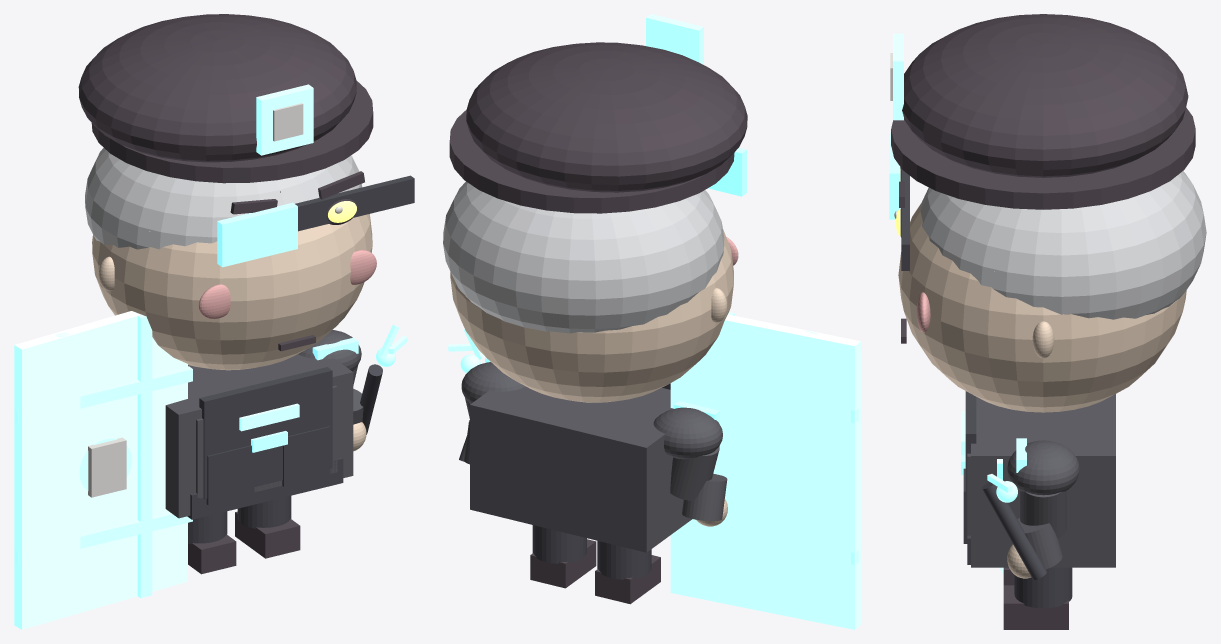
Rendered from sentinel.glb.
3 views of the same model, side by side, from view 1: azimuth 30°, elevation 25°; view 2: azimuth 150°, elevation 25°; view 3: azimuth 270°, elevation 25° (orthographic). The views are drawn at different scales.
Visible parts, largest first — view 1: EnergyShield, Beret, Head, HairCap, ChestPlate, Coat, BeretBand, ShieldFrame_R, Visor, VisorStrap, BeretEmblem, MagPouch_L (+17 smaller); view 2: EnergyShield, Beret, HairCap, Coat, Head, BeretBand, Pauldron_L, BeretEmblem, Leg_L, UpperArm_L, Leg_R, Shoe_R (+4 smaller); view 3: Beret, HairCap, Head, Coat, BeretBand, Pauldron_R, Leg_R, Shoe_R, Baton, UpperArm_R, Forearm_R, BeretEmblem (+6 smaller).
Boxes of the visible parts, left/top/right/bottom form: EnergyShield: left=14, top=311, right=187, bottom=629; Beret: left=78, top=14, right=356, bottom=162; Head: left=92, top=214, right=372, bottom=370; HairCap: left=85, top=148, right=362, bottom=249; ChestPlate: left=199, top=367, right=332, bottom=499; Coat: left=165, top=354, right=353, bottom=518; BeretBand: left=91, top=81, right=373, bottom=183; ShieldFrame_R: left=137, top=315, right=152, bottom=598; Visor: left=217, top=202, right=297, bottom=267; VisorStrap: left=295, top=175, right=414, bottom=231; BeretEmblem: left=256, top=84, right=313, bottom=155; MagPouch_L: left=206, top=445, right=254, bottom=505; EnergyShield: left=670, top=314, right=860, bottom=629; Beret: left=466, top=42, right=747, bottom=192; HairCap: left=443, top=181, right=724, bottom=333; Coat: left=470, top=386, right=692, bottom=552; Head: left=450, top=229, right=733, bottom=402; BeretBand: left=449, top=110, right=734, bottom=213; Pauldron_L: left=653, top=407, right=722, bottom=459; BeretEmblem: left=646, top=14, right=703, bottom=64; Leg_L: left=597, top=541, right=651, bottom=579; UpperArm_L: left=670, top=446, right=719, bottom=500; Leg_R: left=532, top=525, right=586, bottom=563; Shoe_R: left=530, top=539, right=596, bottom=588; Beret: left=902, top=14, right=1188, bottom=177; HairCap: left=920, top=171, right=1206, bottom=319; Head: left=898, top=201, right=1186, bottom=412; Coat: left=971, top=394, right=1115, bottom=567; BeretBand: left=891, top=107, right=1195, bottom=209; Pauldron_R: left=1007, top=440, right=1079, bottom=495; Leg_R: left=1014, top=567, right=1072, bottom=608; Shoe_R: left=1003, top=585, right=1068, bottom=629; Baton: left=982, top=482, right=1046, bottom=579; UpperArm_R: left=1020, top=490, right=1066, bottom=538; Forearm_R: left=1017, top=518, right=1062, bottom=569; BeretEmblem: left=893, top=33, right=903, bottom=120.
Bounding box in the file's own units: 1.62 × 2 × 1.04.
